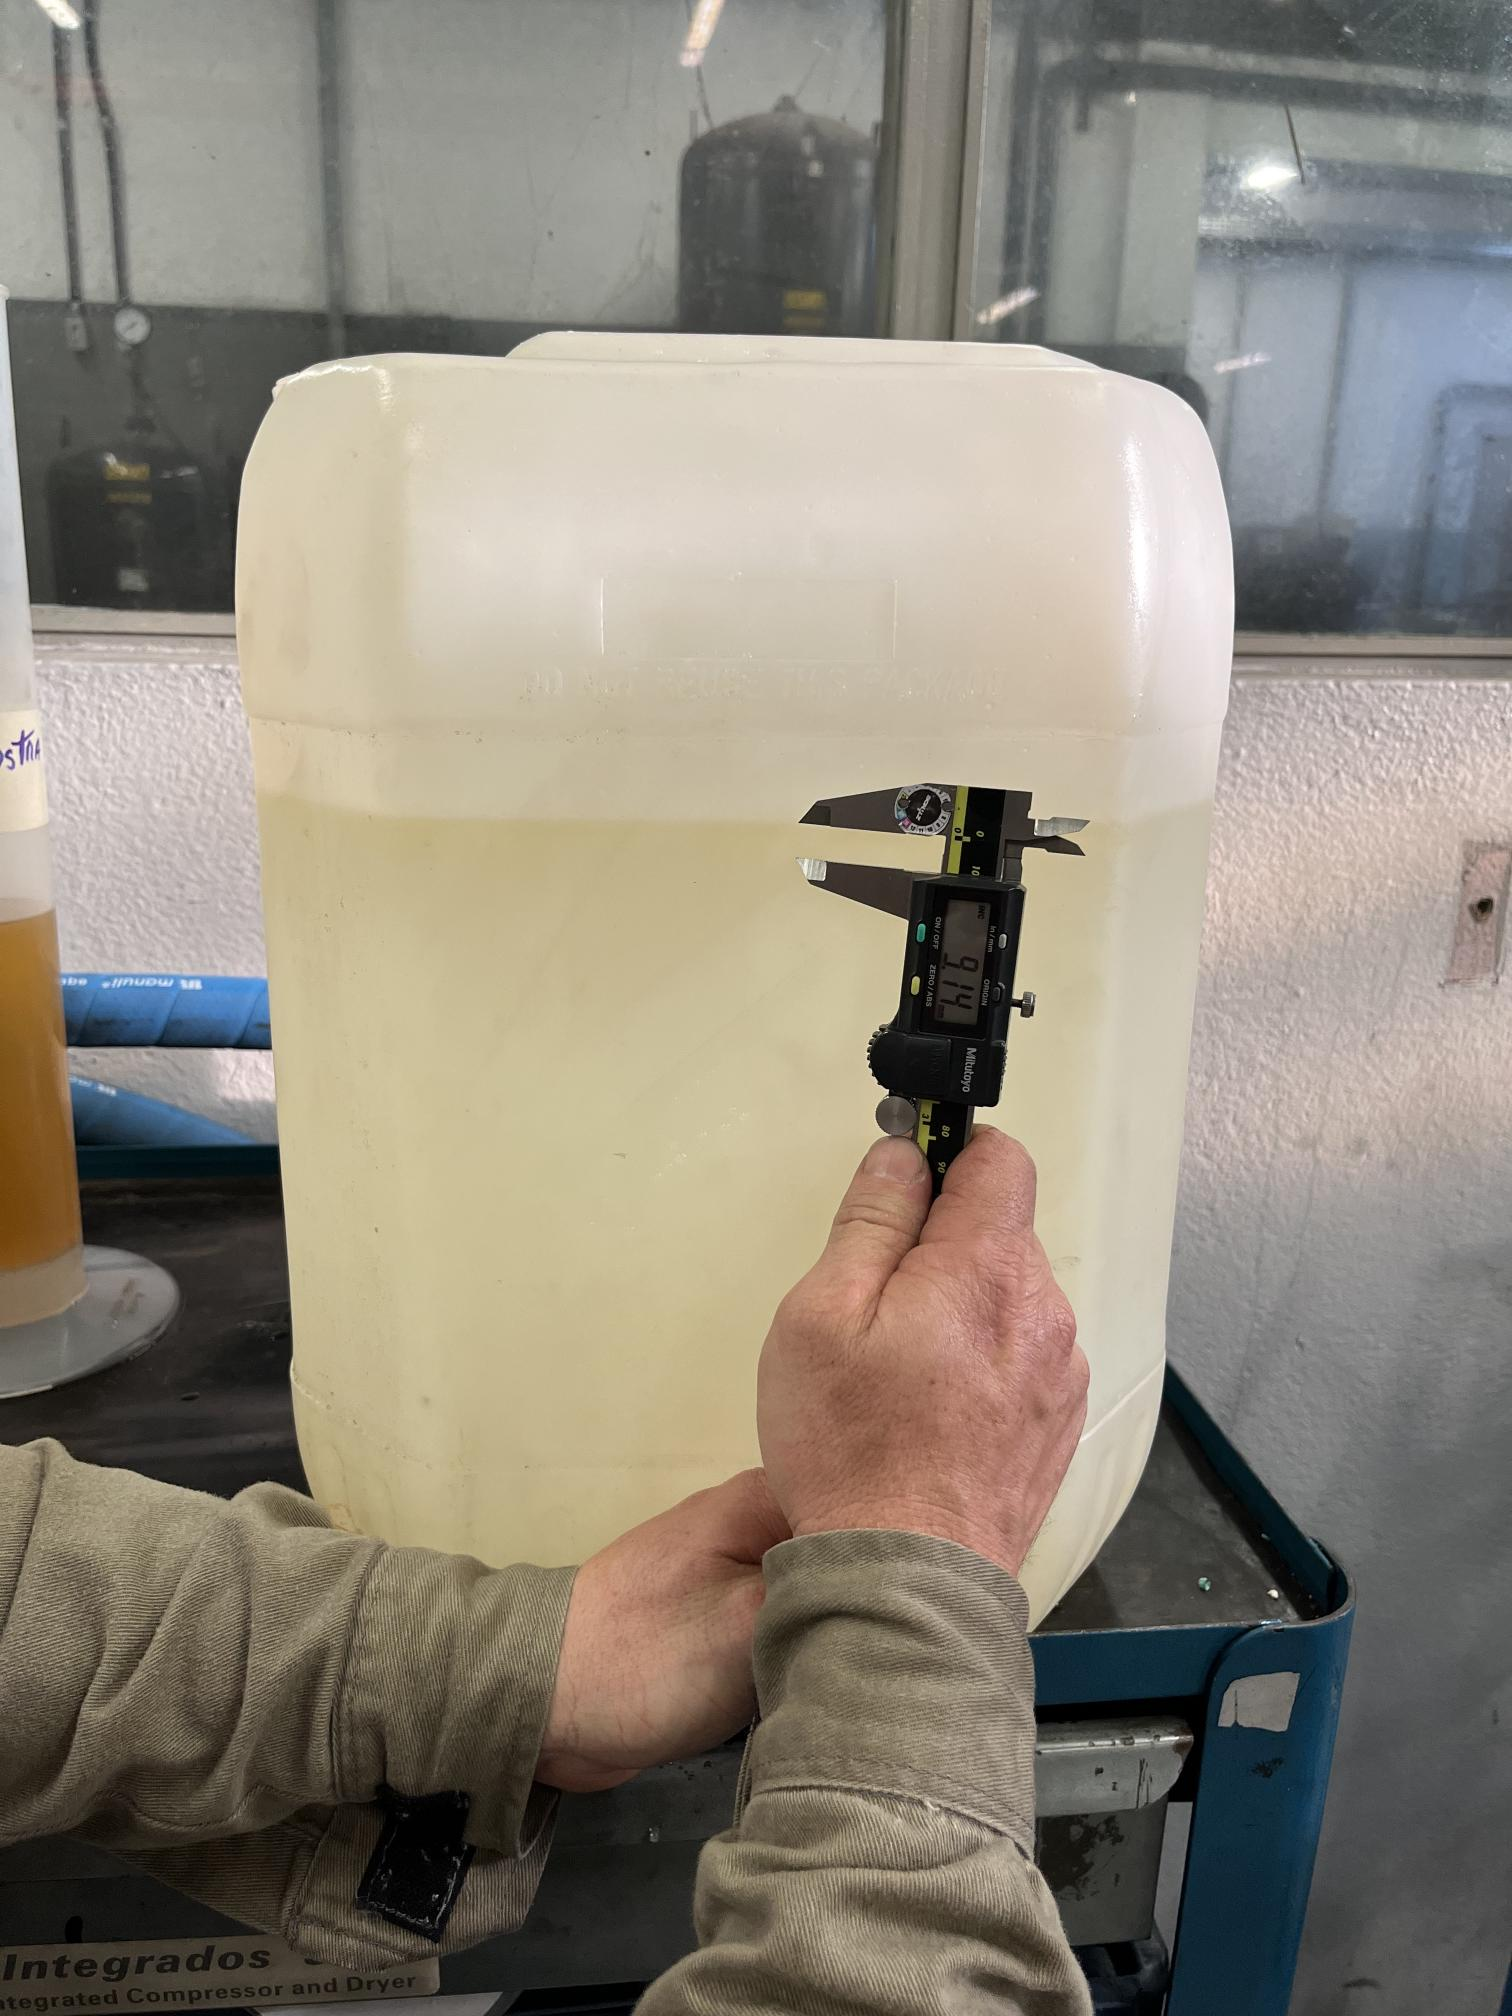Galao: (210, 290, 1210, 1695)
